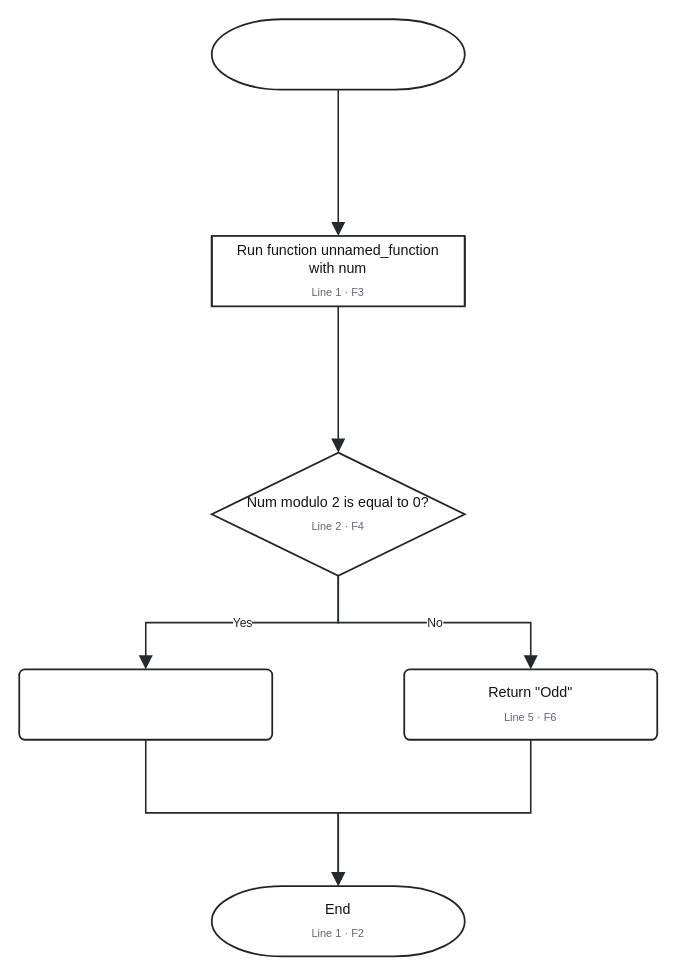
Some shapes in this 678 by 977 pixel diagram are drawn without their labels. The shapes that lost their labels are listed below. From the top down, each one's centre as x and y in pixels, then its label:
[337,54]: Start Line 1 · F1
[145,704]: Return "Even" Line 3 · F5
